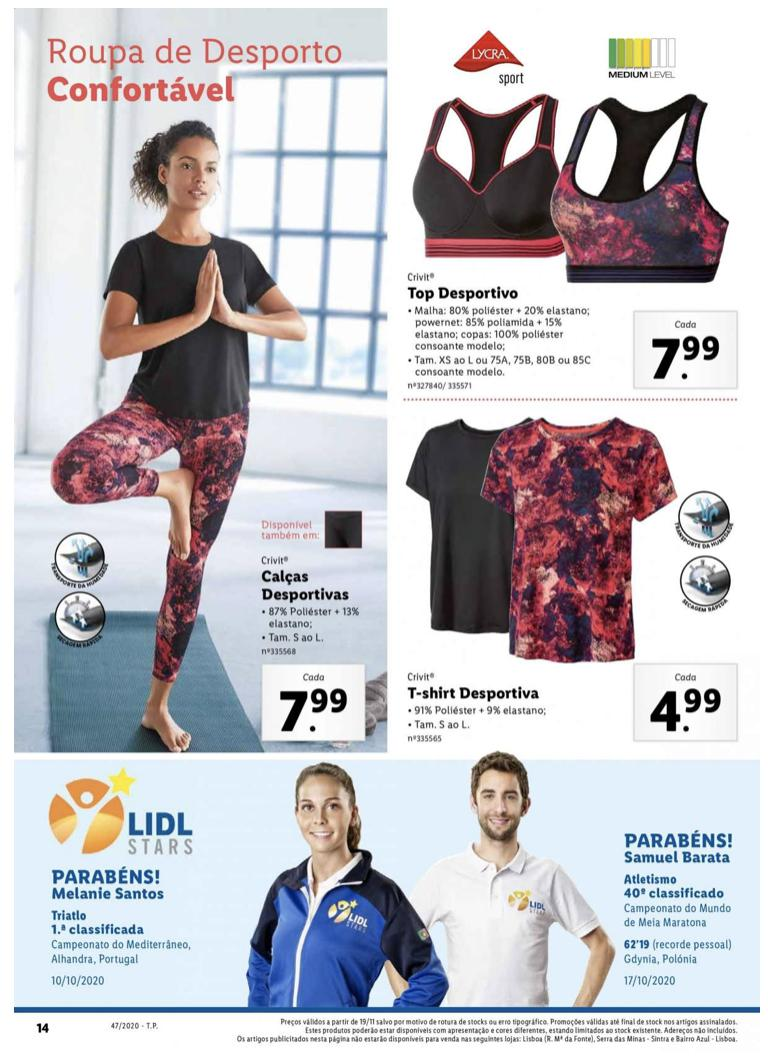name: (260, 565, 357, 610), (403, 680, 548, 707), (405, 281, 527, 306)
price: (649, 682, 722, 735), (653, 334, 722, 384), (280, 686, 349, 734)
product: (39, 111, 384, 747), (401, 11, 749, 397), (399, 413, 748, 754)
